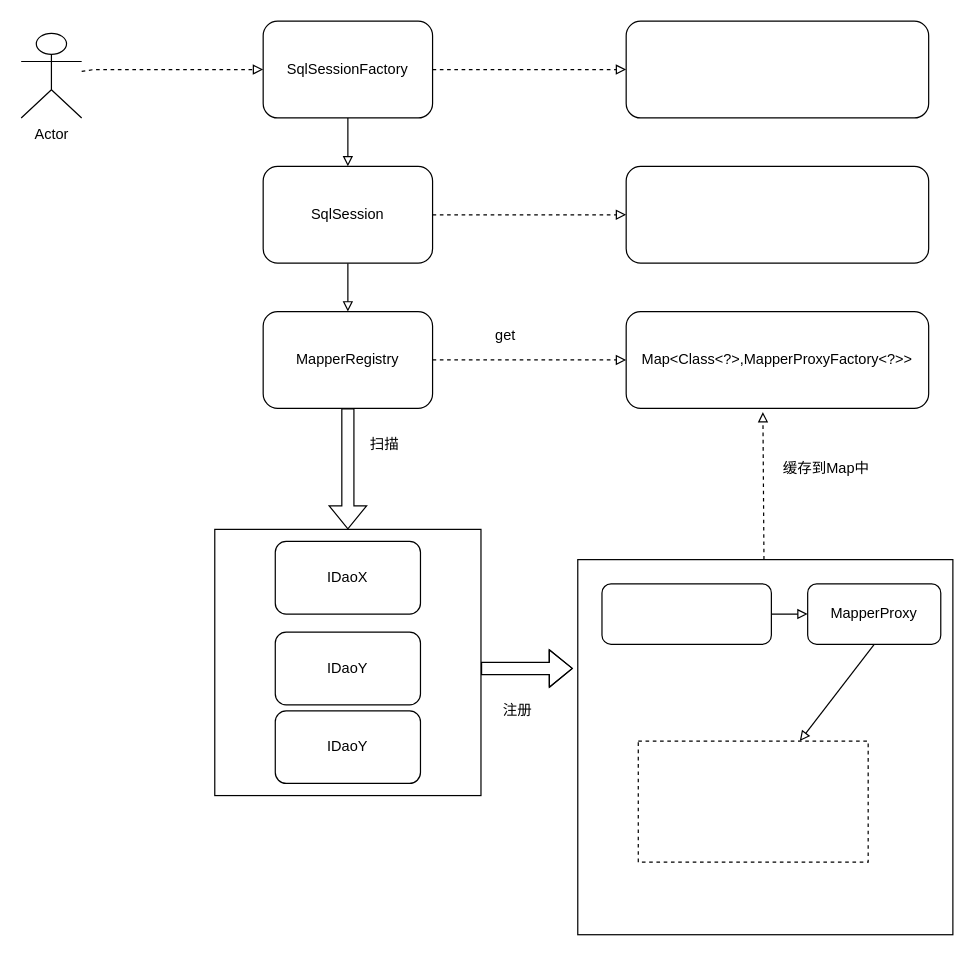
The diagram is 974 pixels wide and 956 high, and some of its shapes have lost their labels. Here are the shapes that lost their labels. From the top down, the centre of each, then its label:
the point at 777,69: openSession()
the point at 777,214: <T> T selectOne(String statement); <T> T getMapper(Class<T> type);
the point at 686,613: MapperProxyFactory
the point at 752,801: 包装Mapper操作
